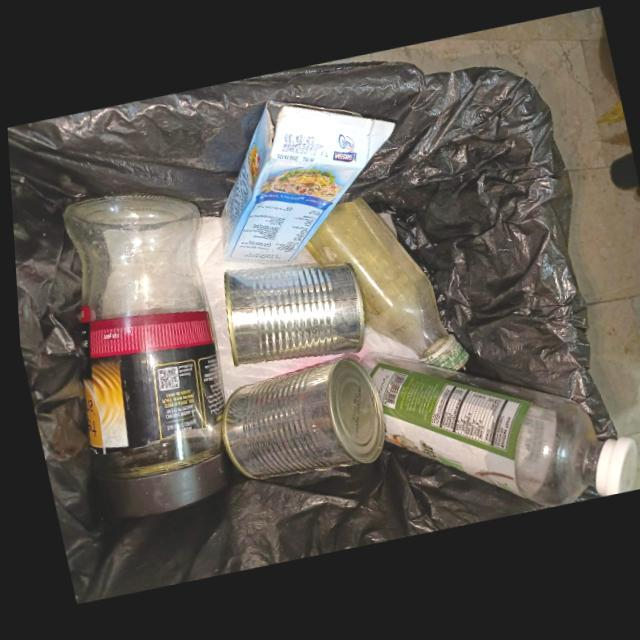glass: (61, 192, 223, 518), (303, 200, 465, 375)
metal: (213, 357, 381, 482), (220, 266, 361, 369)
paper: (218, 102, 395, 269)
